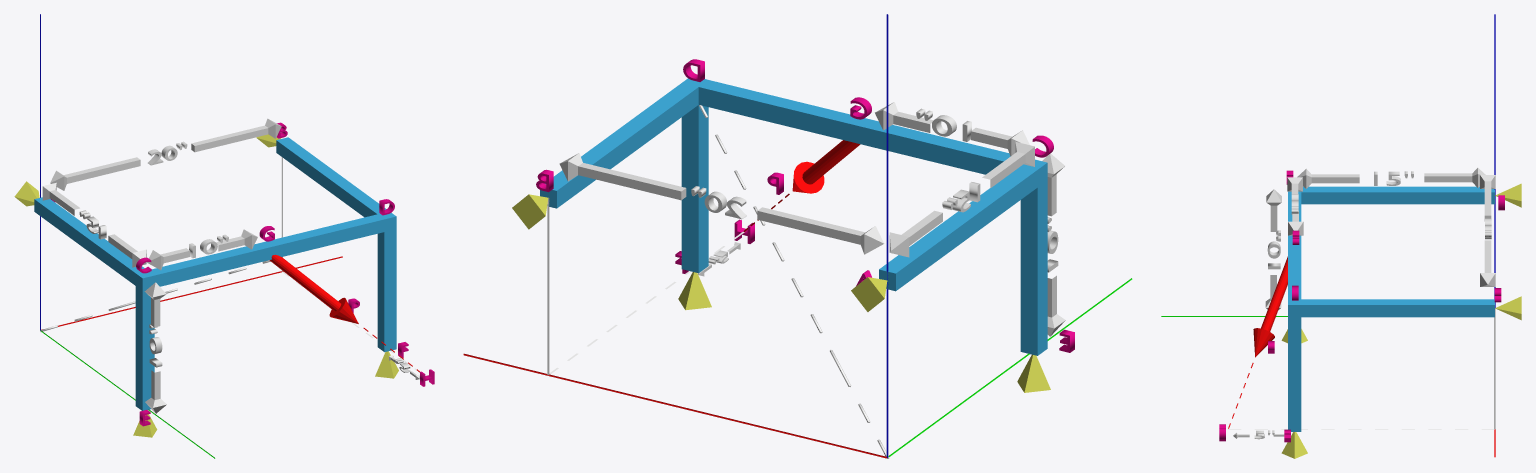
Rendered from Meshed Problem 1.glb.
3 views of the same model, side by side, from view 1: azimuth 30°, elevation 25°; view 2: azimuth 150°, elevation 25°; view 3: azimuth 270°, elevation 25° (orthographic). The views are drawn at different scales.
Parts seen in each view (by area): view 1: Cube, Cylinder, Cube.001, Cube.002, Cube.005, Cube.003, Cube.009, Cube.006, Plane.002, Cube.004, Cube.010, Text; view 2: Cube, Cube.001, Cube.002, Cylinder, Plane.003, Cube.003, Plane.002, Cube.006, Cube.010, Text, Cone.001, Cone (+7 smaller); view 3: Cube, Cylinder, Cube.006, Cube.003, Plane.003, Cube.001, Cube.002, Cube.005, Cone.003.
Part boxes in pixels (x1,y1,x2,y2): Cube: [34, 137, 396, 410]; Cylinder: [269, 254, 419, 372]; Cube.001: [191, 118, 281, 152]; Cube.002: [50, 157, 140, 190]; Cube.005: [144, 282, 166, 327]; Cube.003: [42, 182, 79, 215]; Cube.009: [147, 248, 189, 270]; Cube.006: [108, 234, 146, 267]; Plane.002: [41, 256, 342, 329]; Cube.004: [145, 370, 166, 413]; Cube.010: [216, 229, 257, 251]; Text: [148, 141, 187, 165]; Cube: [540, 78, 1047, 355]; Cube.001: [559, 153, 686, 200]; Cube.002: [757, 207, 884, 254]; Cylinder: [743, 140, 860, 231]; Plane.003: [886, 14, 888, 457]; Cube.003: [889, 210, 942, 257]; Plane.002: [463, 353, 886, 458]; Cube.006: [982, 141, 1034, 188]; Cube.010: [875, 102, 933, 132]; Text: [691, 186, 746, 219]; Cone.001: [512, 194, 548, 229]; Cone: [851, 277, 887, 311]; Cube: [1288, 186, 1494, 431]; Cylinder: [1228, 256, 1287, 428]; Cube.006: [1297, 168, 1359, 188]; Cube.003: [1424, 168, 1485, 187]; Plane.003: [1494, 14, 1495, 307]; Cube.001: [1480, 240, 1495, 286]; Cube.002: [1480, 175, 1495, 221]; Cube.005: [1266, 189, 1281, 231]; Cone.003: [1281, 432, 1307, 458].
Bounding box in the file's own units: 0.6678 × 0.6858 × 0.6858.
